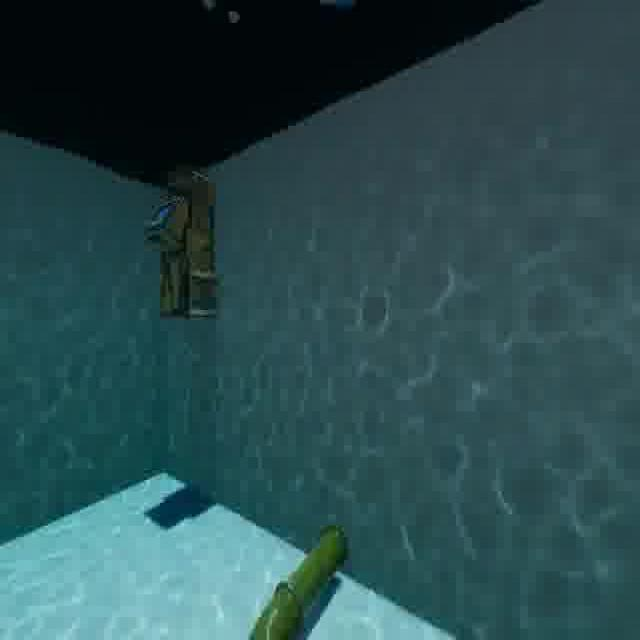Control Panel: (139, 166, 236, 325)
Pipe: (242, 512, 374, 640)
